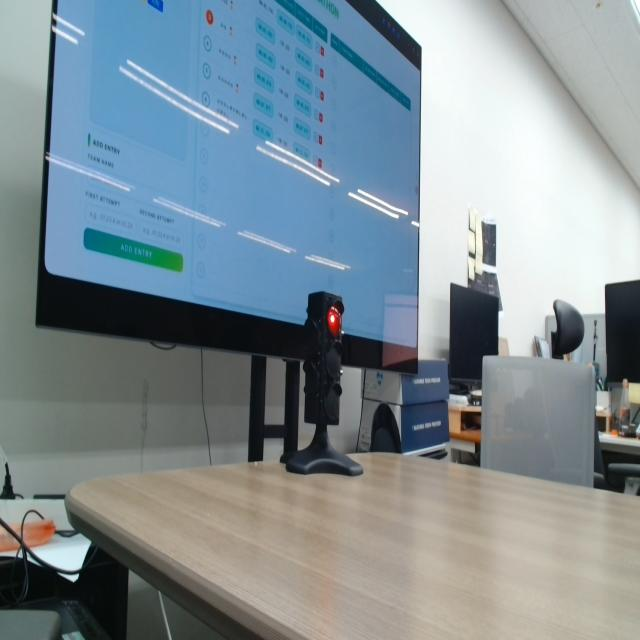red_light: (327, 307, 341, 337)
